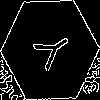Y: (25, 25, 75, 77)
